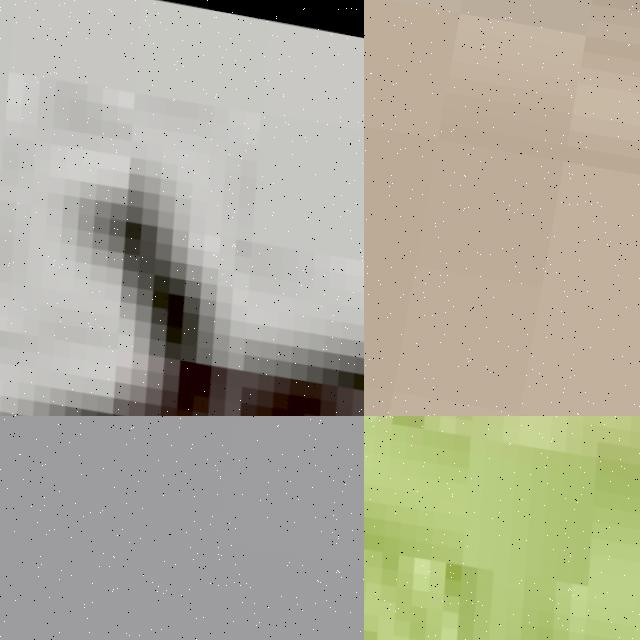drone: (0, 0, 364, 416), (364, 416, 640, 640)
